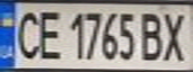1: (63, 8, 84, 61)
5: (115, 8, 142, 62)
6: (100, 8, 121, 61)
7: (81, 8, 103, 61)
B: (136, 9, 169, 62)
C: (6, 6, 45, 61)
E: (33, 7, 66, 61)
X: (157, 8, 193, 63)
